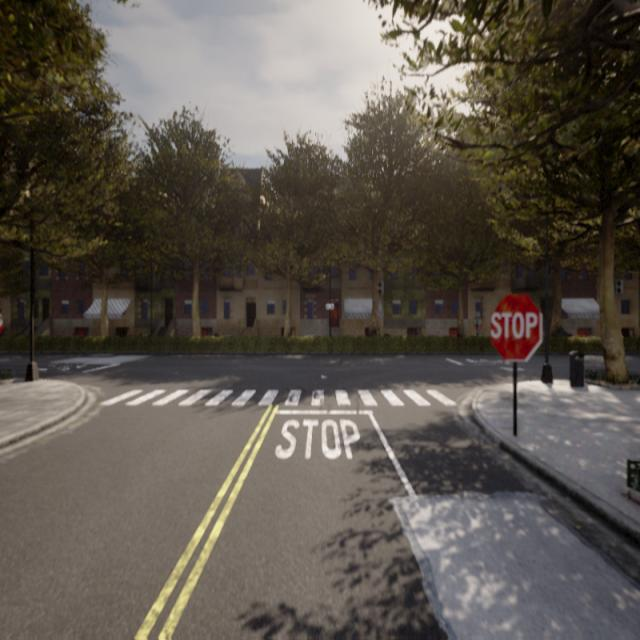stop sign: (486, 289, 545, 365), (490, 308, 539, 342)
